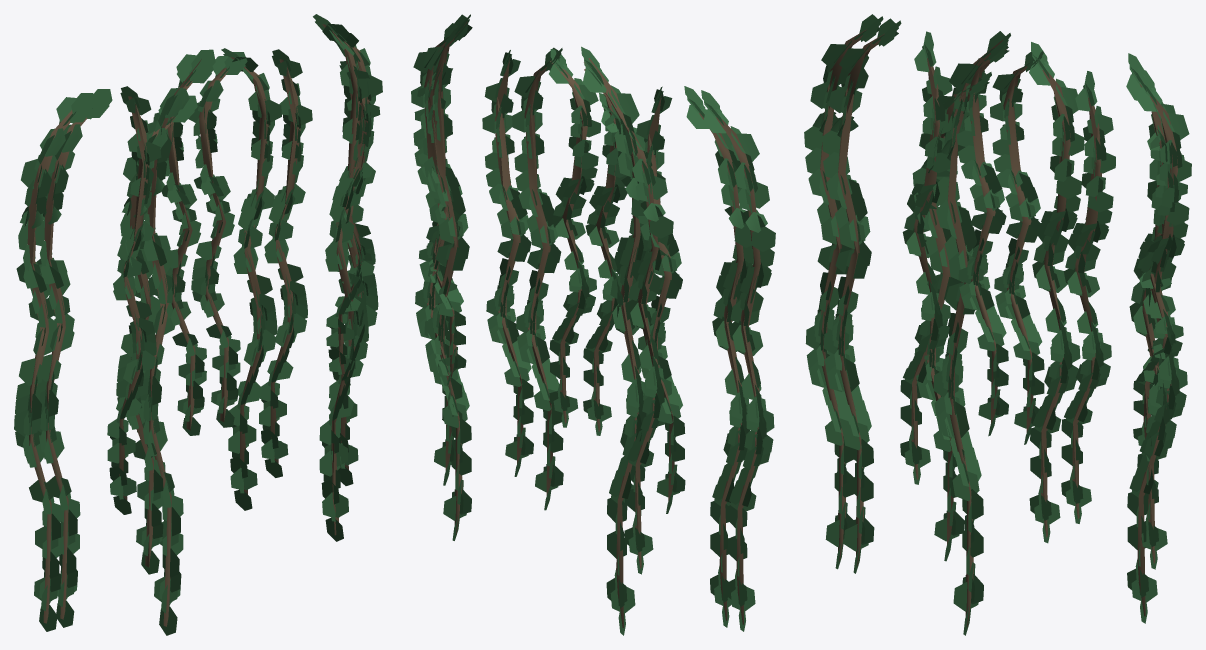
The model's file is vines-c.fbx.
3 renders of one model, left to right at view 1: azimuth 30°, elevation 25°; view 2: azimuth 150°, elevation 25°; view 3: azimuth 330°, elevation 25°, orthographic. The views are drawn at different scales.
Visible parts, largest first — view 1: vines_c; view 2: vines_c; view 3: vines_c.
Boxes of the visible parts, x1,y1,x2,y2 form: vines_c: (14,14,382,635); vines_c: (411,14,775,635); vines_c: (804,14,1191,635).
Size of the model in its own units: 107 by 166 by 10.46.
